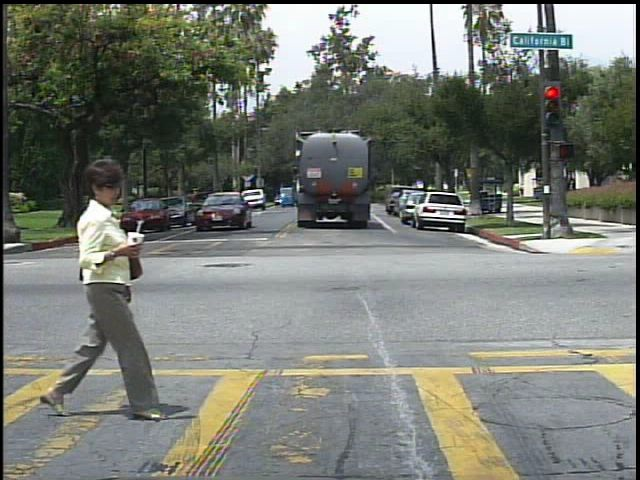person: (41, 152, 150, 424), (564, 172, 582, 204), (517, 180, 530, 200)
